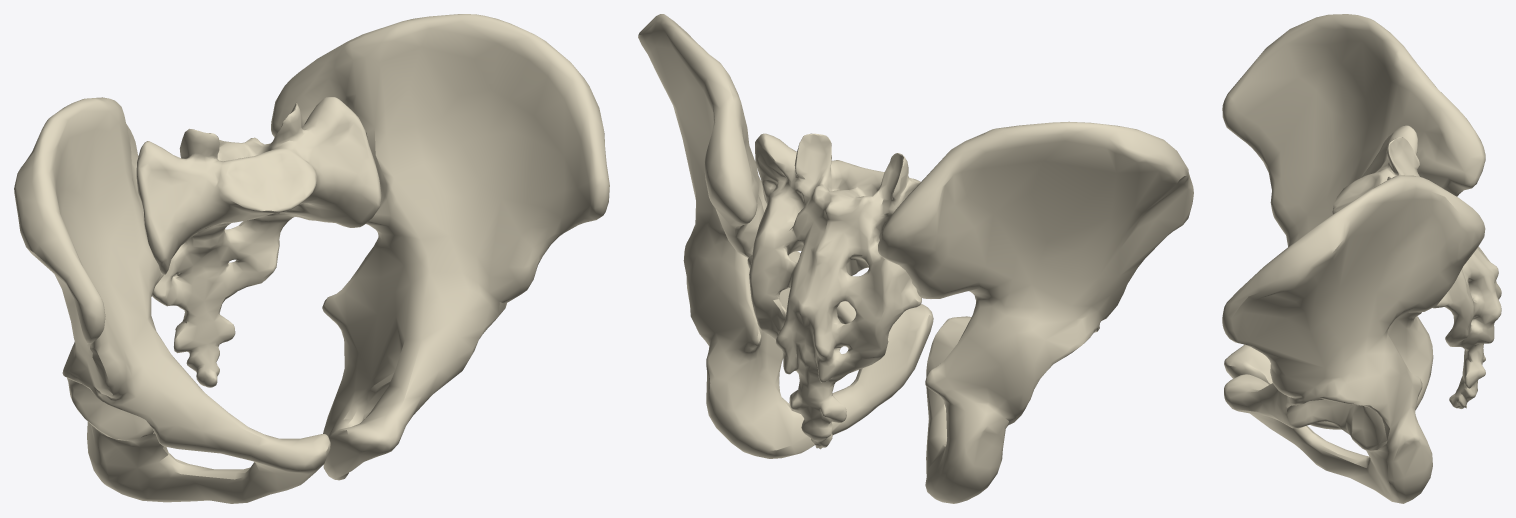
Rendered from pelvis-balanced.glb.
The picture shows the model from 3 angles, left to right: view 1: azimuth 30°, elevation 25°; view 2: azimuth 150°, elevation 25°; view 3: azimuth 270°, elevation 25°; orthographic projection. The views are drawn at different scales.
Parts seen in each view (by area): view 1: bp3d.FMA16585, bp3d.FMA16202; view 2: bp3d.FMA16585, bp3d.FMA16202; view 3: bp3d.FMA16585, bp3d.FMA16202.
Boxes of the visible parts, x1,y1,x2,y2 form: bp3d.FMA16585: [14, 14, 609, 503]; bp3d.FMA16202: [136, 97, 381, 387]; bp3d.FMA16585: [638, 14, 1193, 503]; bp3d.FMA16202: [747, 133, 921, 449]; bp3d.FMA16585: [1222, 14, 1485, 503]; bp3d.FMA16202: [1332, 125, 1501, 408].
Size of the model in its own units: 0.2896 by 0.2061 by 0.1463.
